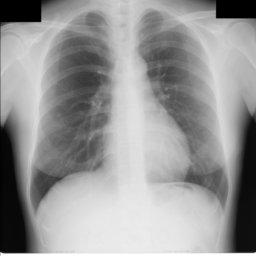left lobe: (139, 11, 228, 206)
right lobe: (32, 13, 113, 208)
